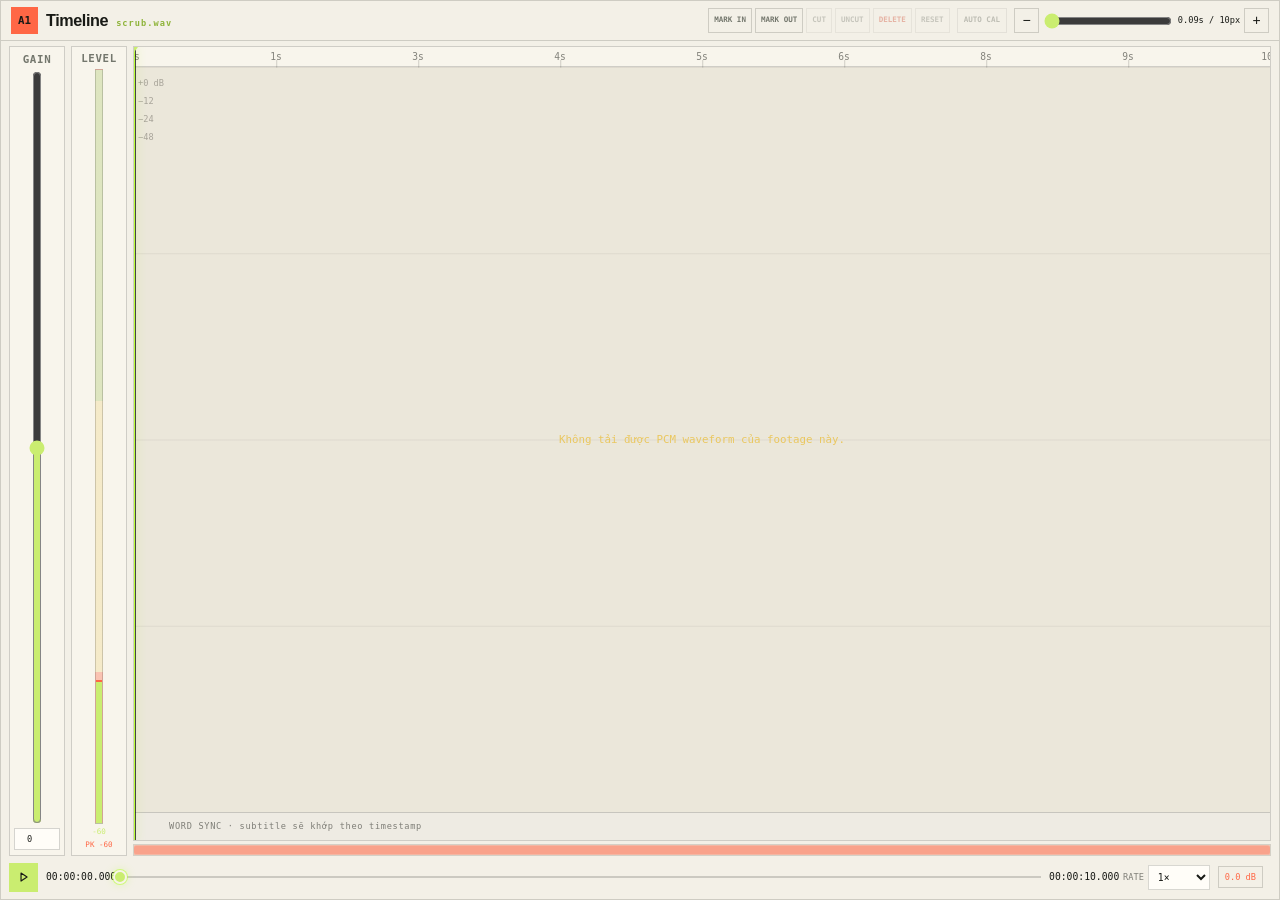
Scenario: Timeline › seeks immediately when the user clicks or drags on the waveform
Press the mouse on the element named "Waveform timeline": (702, 440) [134,67,1270,812]
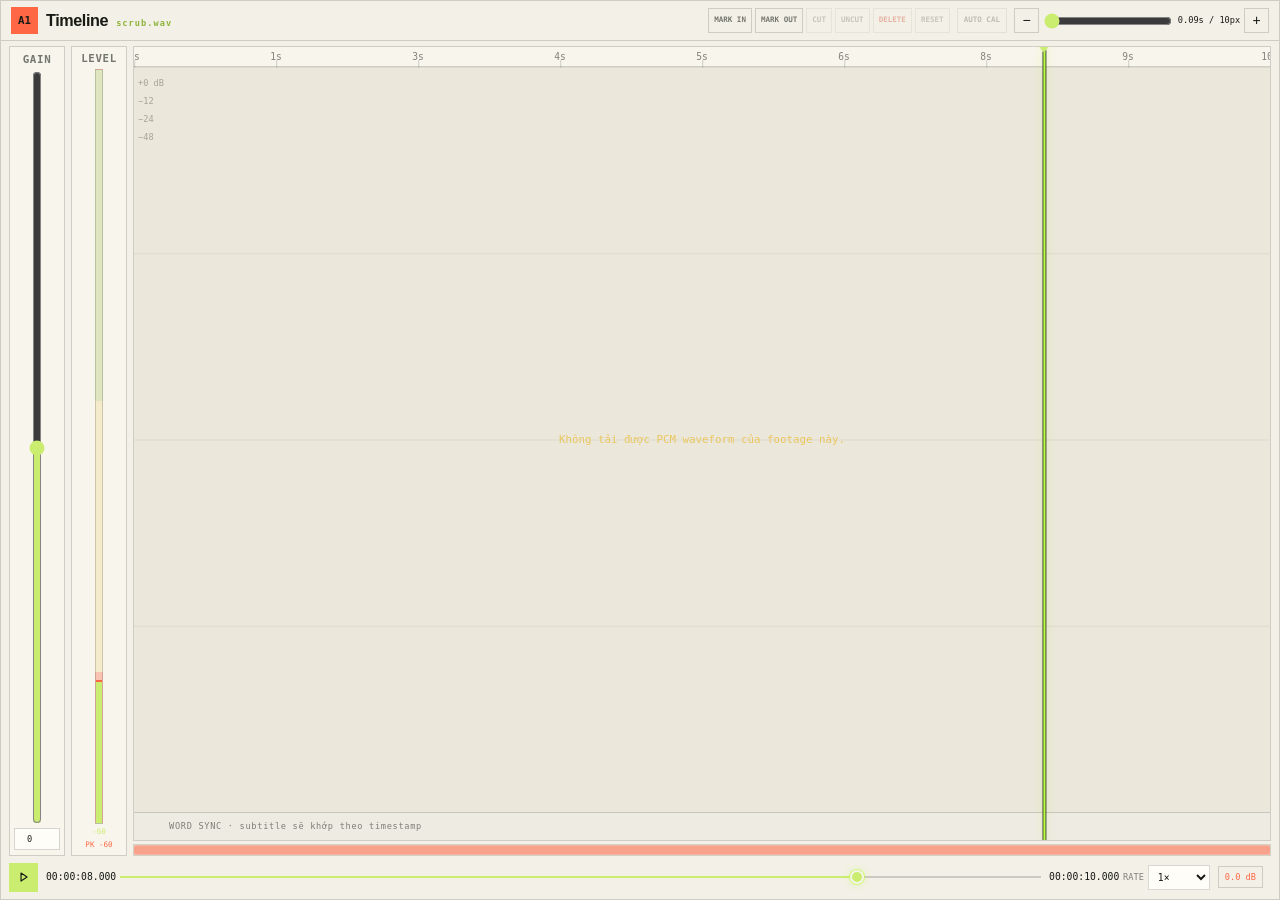
Expected: the text "00:00:08.000" is shown, [46,870,112,884]
